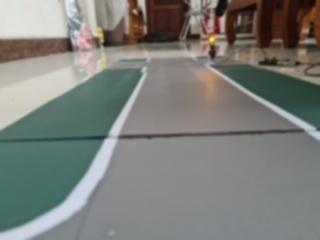yellow: (204, 28, 221, 52)
